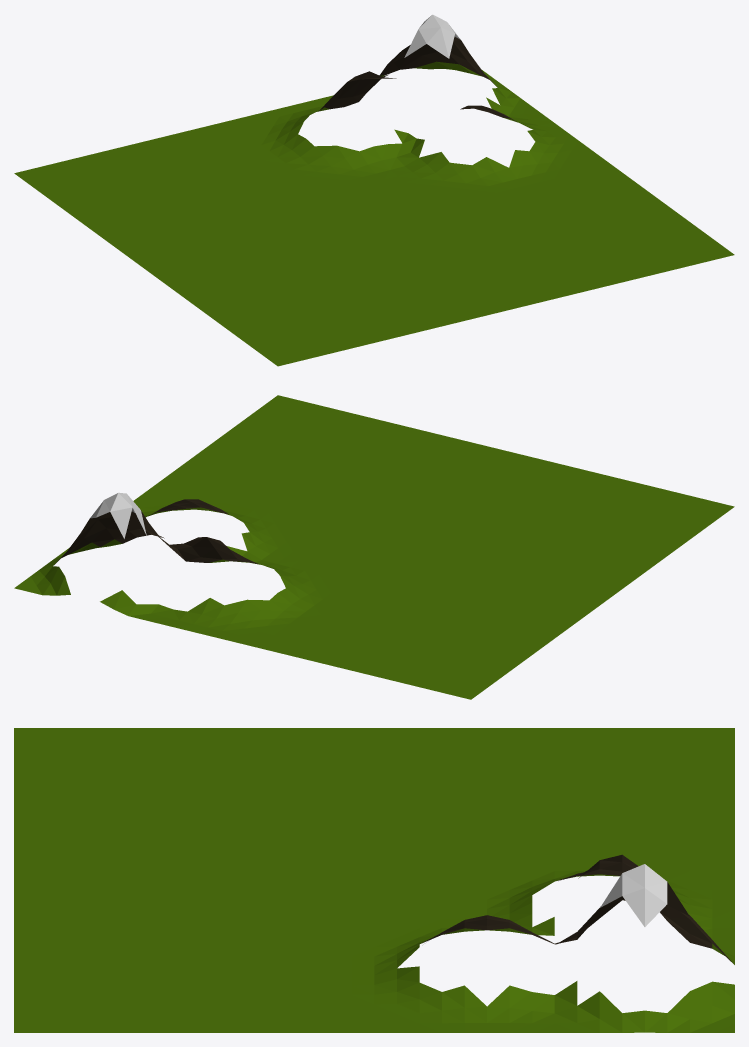
The model's file is panorama_export.fbx.
The picture shows the model from 3 angles, top to bottom: view 1: azimuth 30°, elevation 25°; view 2: azimuth 150°, elevation 25°; view 3: azimuth 270°, elevation 25°; orthographic projection. The views are drawn at different scales.
Visible parts, largest first — view 1: Plane; view 2: Plane; view 3: Plane.
Boxes of the visible parts, <box> form: Plane: <box>14,14,734,366</box>; Plane: <box>14,395,734,699</box>; Plane: <box>14,728,734,1032</box>.
Size of the model in its own units: 2645 by 491 by 2645.
